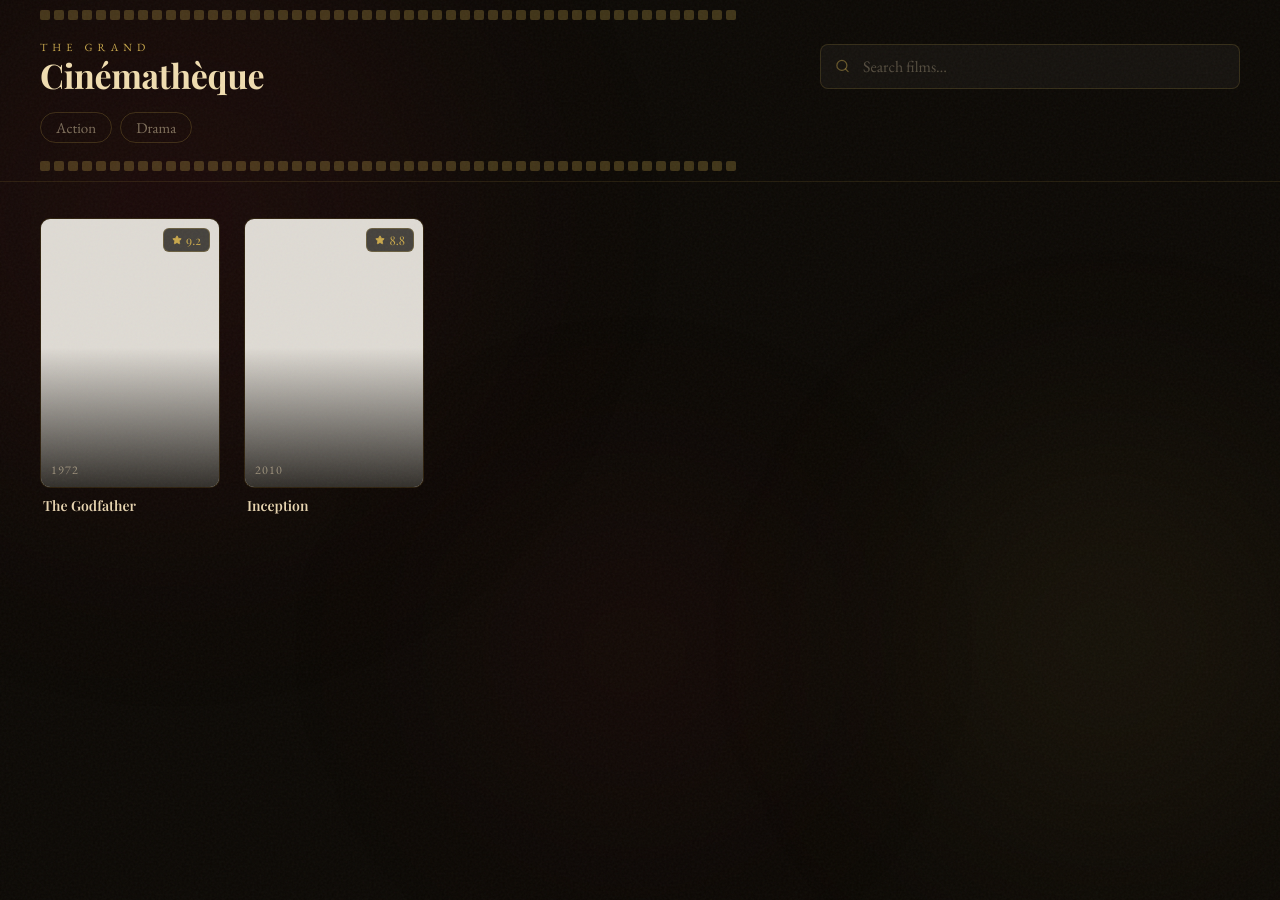
Scenario: HomePage › shows a clear button when the search has text
Check: the heading "The Godfather" is shown, box [43, 496, 136, 515]
Type "god" into the field with placeholder "Search films…". click: (1030, 66)
box: [820, 44, 1240, 88]
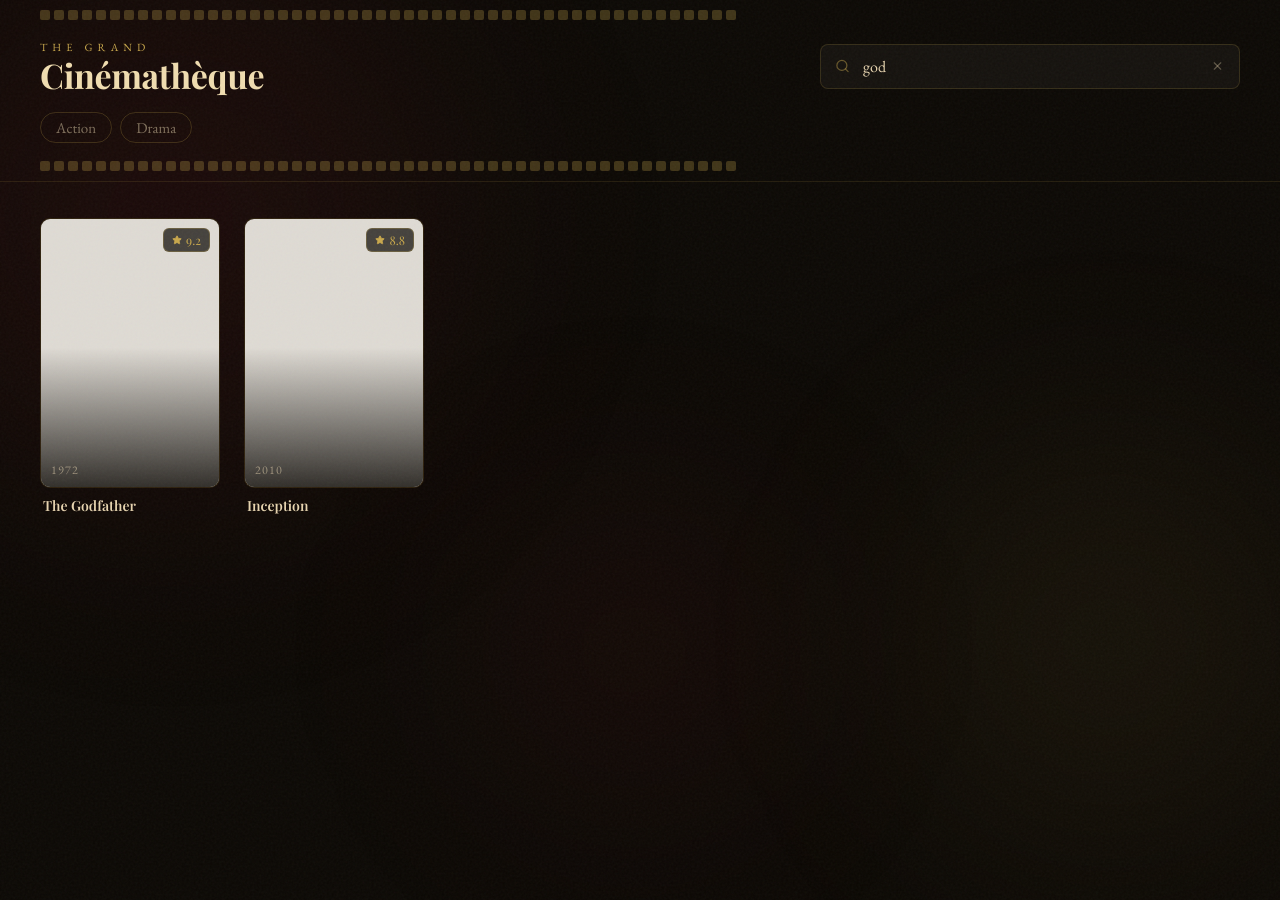
Check: the button named "clear search" is shown, box [1207, 56, 1228, 76]
